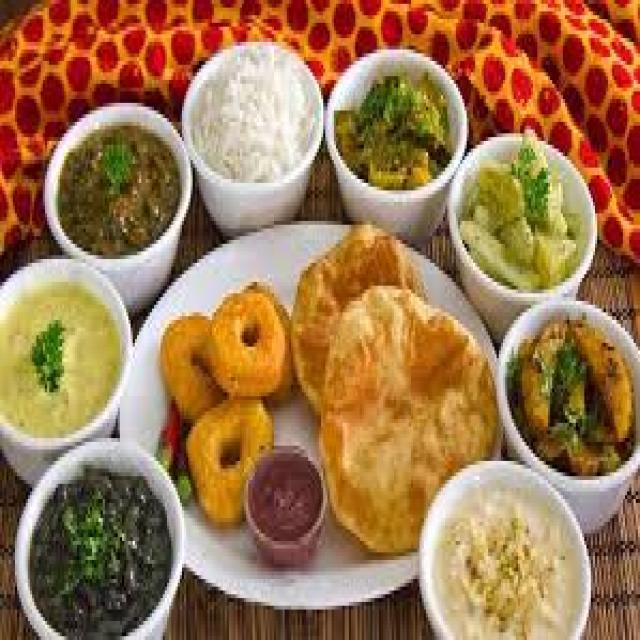dal: (456, 140, 588, 296)
papad: (166, 290, 288, 486)
rice: (425, 486, 581, 640), (188, 51, 317, 199)
sweet: (49, 116, 191, 264), (245, 448, 327, 550)
veg-fry: (332, 59, 455, 206)
